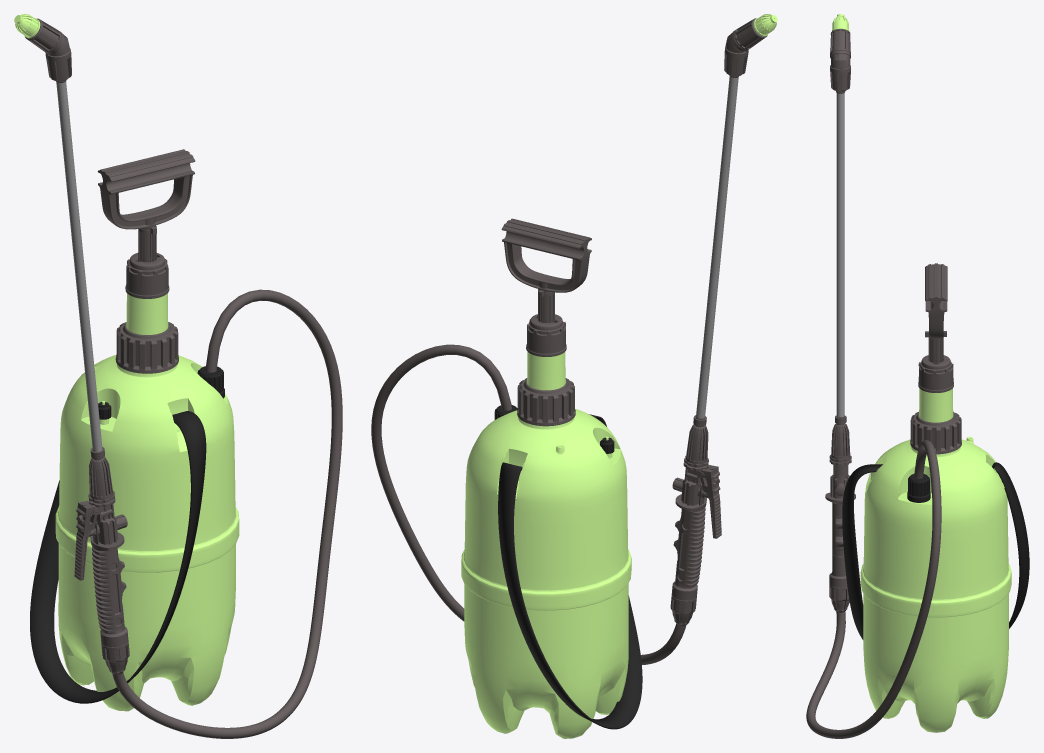
Rendered from pump_sprayer.glb.
3 renders of one model, left to right at view 1: azimuth 30°, elevation 25°; view 2: azimuth 150°, elevation 25°; view 3: azimuth 270°, elevation 25°, orthographic. The views are drawn at different scales.
Parts seen in each view (by area): view 1: Circle, Cylinder.003, NurbsPath, NurbsPath.001; view 2: Circle, Cylinder.003, NurbsPath.001, NurbsPath; view 3: Circle, Cylinder.003, NurbsPath, NurbsPath.001.
Part boxes in pixels (x1=…): Circle: x1=55, y1=149, x2=239, y2=711; Cylinder.003: x1=14, y1=14, x2=129, y2=674; NurbsPath: x1=112, y1=289, x2=342, y2=738; NurbsPath.001: x1=30, y1=411, x2=206, y2=703; Circle: x1=461, y1=218, x2=631, y2=738; Cylinder.003: x1=670, y1=14, x2=777, y2=625; NurbsPath.001: x1=498, y1=414, x2=642, y2=729; NurbsPath: x1=371, y1=344, x2=686, y2=664; Circle: x1=860, y1=263, x2=1011, y2=732; Cylinder.003: x1=825, y1=14, x2=855, y2=612; NurbsPath: x1=806, y1=440, x2=941, y2=738; NurbsPath.001: x1=842, y1=462, x2=1029, y2=639.
Size of the model in its own units: 295 by 561 by 182.
